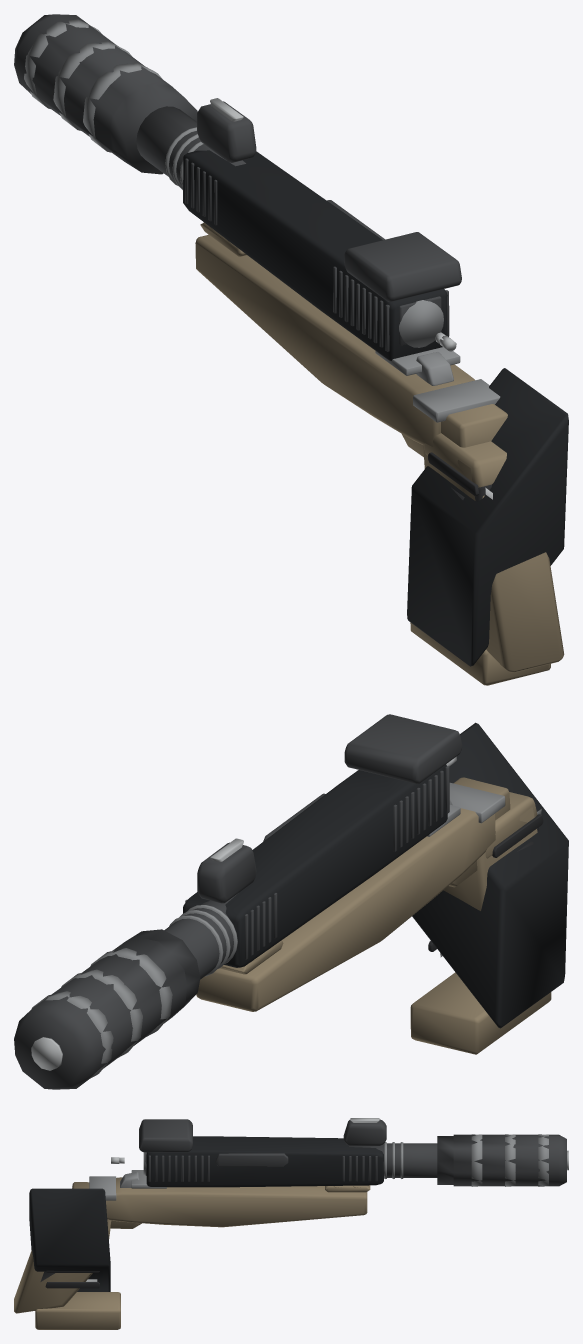
Rendered from usp-s.glb.
3 renders of one model, top to bottom at view 1: azimuth 30°, elevation 25°; view 2: azimuth 150°, elevation 25°; view 3: azimuth 270°, elevation 25°, orthographic. The views are drawn at different scales.
Parts seen in each view (by area): view 1: MagazineBody, AccessoryRail_Batched, SlideBody, BarrelNut_Batched, ControlLever_Batched, RearSightBase, FrontSightBase, MagazineWell, TriggerGuard, MagazineFloorPlate, BobbedHammer, SlideRailBlock (+1 smaller); view 2: MagazineBody, SlideBody, AccessoryRail_Batched, BarrelNut_Batched, ControlLever_Batched, RearSightBase, MagazineFloorPlate, FrontSightBase, MagazineWell, FramePin_Batched, TriggerGuard, Backstrap_Batched; view 3: AccessoryRail_Batched, SlideBody, BarrelNut_Batched, MagazineBody, MagazineFloorPlate, ControlLever_Batched, RearSightBase, EjectionPort, FrontSightBase, Backstrap_Batched, TriggerGuard.
Boxes of the visible parts, x1=… form: MagazineBody: x1=407, y1=368, x2=568, y2=666; AccessoryRail_Batched: x1=195, y1=222, x2=564, y2=672; SlideBody: x1=183, y1=150, x2=447, y2=360; BarrelNut_Batched: x1=14, y1=14, x2=245, y2=185; ControlLever_Batched: x1=24, y1=19, x2=500, y2=422; RearSightBase: x1=344, y1=232, x2=461, y2=301; FrontSightBase: x1=197, y1=101, x2=256, y2=162; MagazineWell: x1=424, y1=433, x2=506, y2=487; TriggerGuard: x1=402, y1=404, x2=507, y2=457; MagazineFloorPlate: x1=410, y1=622, x2=550, y2=685; BobbedHammer: x1=416, y1=352, x2=453, y2=385; SlideRailBlock: x1=375, y1=347, x2=460, y2=375; MagazineBody: x1=412, y1=722, x2=568, y2=1028; SlideBody: x1=183, y1=764, x2=447, y2=967; AccessoryRail_Batched: x1=196, y1=807, x2=537, y2=1011; BarrelNut_Batched: x1=14, y1=893, x2=238, y2=1089; ControlLever_Batched: x1=31, y1=782, x2=505, y2=1079; RearSightBase: x1=344, y1=714, x2=462, y2=783; MagazineFloorPlate: x1=410, y1=972, x2=551, y2=1054; FrontSightBase: x1=197, y1=842, x2=256, y2=903; MagazineWell: x1=485, y1=792, x2=537, y2=858; FramePin_Batched: x1=31, y1=756, x2=456, y2=1070; TriggerGuard: x1=449, y1=777, x2=510, y2=887; Backstrap_Batched: x1=428, y1=814, x2=543, y2=951; AccessoryRail_Batched: x1=14, y1=1177, x2=370, y2=1313; SlideBody: x1=146, y1=1136, x2=383, y2=1187; BarrelNut_Batched: x1=349, y1=1134, x2=566, y2=1186; MagazineBody: x1=29, y1=1188, x2=110, y2=1291; MagazineFloorPlate: x1=35, y1=1292, x2=120, y2=1329; ControlLever_Batched: x1=89, y1=1134, x2=548, y2=1200; RearSightBase: x1=139, y1=1119, x2=192, y2=1152; EjectionPort: x1=215, y1=1153, x2=288, y2=1166; FrontSightBase: x1=343, y1=1119, x2=386, y2=1145; Backstrap_Batched: x1=40, y1=1270, x2=99, y2=1288; TriggerGuard: x1=72, y1=1182, x2=141, y2=1228.
Bounding box in the file's own units: 0.045 × 0.1634 × 0.4066.
